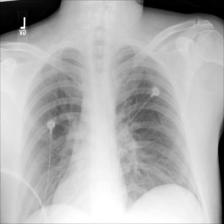normal: (12, 41, 205, 224)
